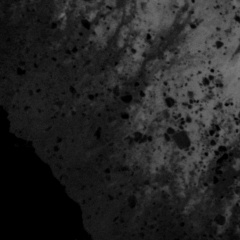Vegetation: (173, 45, 240, 123), (139, 1, 240, 44), (89, 3, 146, 42), (192, 122, 240, 153), (149, 79, 176, 115), (168, 153, 216, 173), (149, 131, 167, 168)
